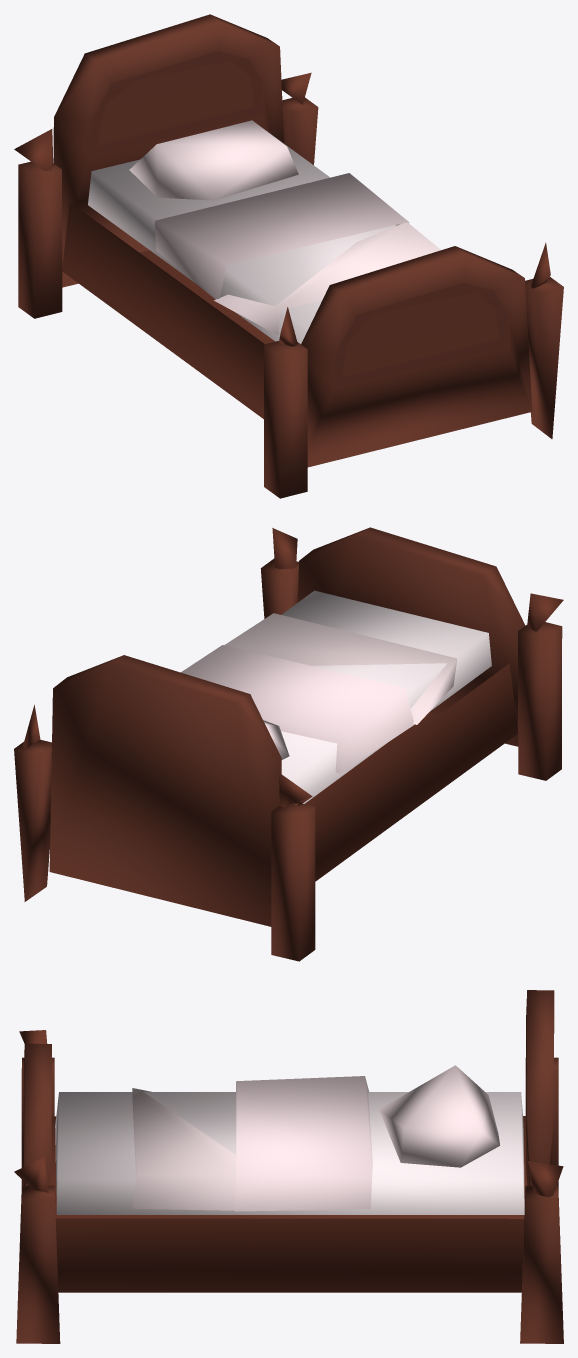
File: Bed_07.glb
3 renders of one model, top to bottom at view 1: azimuth 30°, elevation 25°; view 2: azimuth 150°, elevation 25°; view 3: azimuth 270°, elevation 25°, orthographic. The views are drawn at different scales.
Parts seen in each view (by area): view 1: Bed_07; view 2: Bed_07; view 3: Bed_07.
Part boxes in pixels (x1=…): Bed_07: x1=14, y1=14, x2=563, y2=498; Bed_07: x1=14, y1=527, x2=563, y2=961; Bed_07: x1=14, y1=990, x2=563, y2=1343.
Bounding box in the file's own units: 1.41 × 1.16 × 2.23.
1 material, 1 textured.
